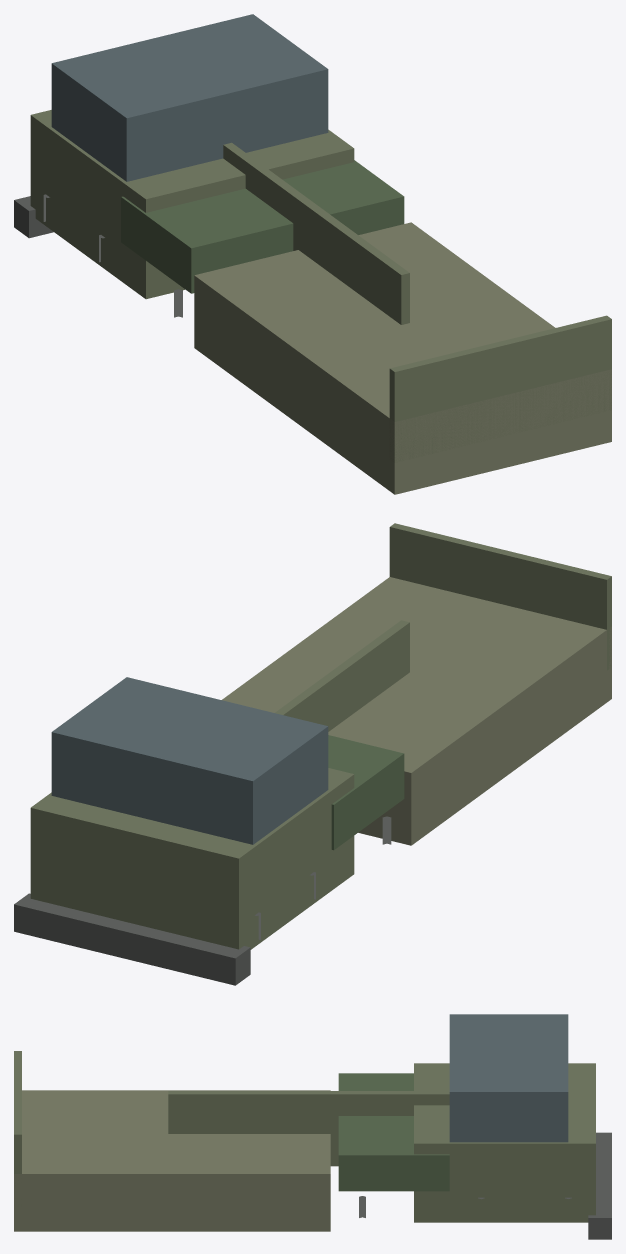
Rendered from v_ural.glb.
3 views of the same model, one above another, from view 1: azimuth 30°, elevation 25°; view 2: azimuth 150°, elevation 25°; view 3: azimuth 270°, elevation 25° (orthographic). The views are drawn at different scales.
Visible parts, largest first — view 1: body; view 2: body; view 3: body.
Boxes of the visible parts, <box> form: body: <box>14,14,611,494</box>; body: <box>14,523,611,985</box>; body: <box>14,1014,611,1239</box>.
Bounding box in the file's own units: 2.55 × 2 × 7.55.
